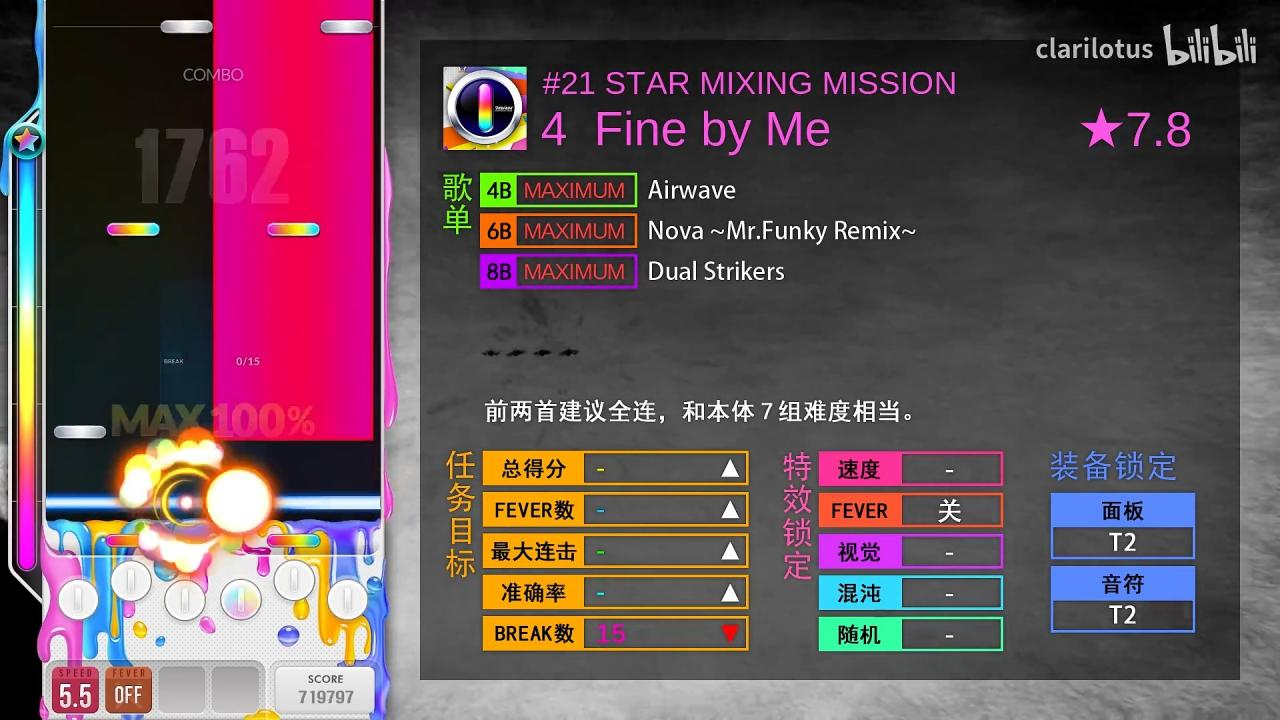note: (213, 425, 374, 441), (266, 222, 321, 238), (319, 20, 372, 35), (107, 222, 160, 237), (160, 20, 214, 33), (53, 426, 107, 439)
